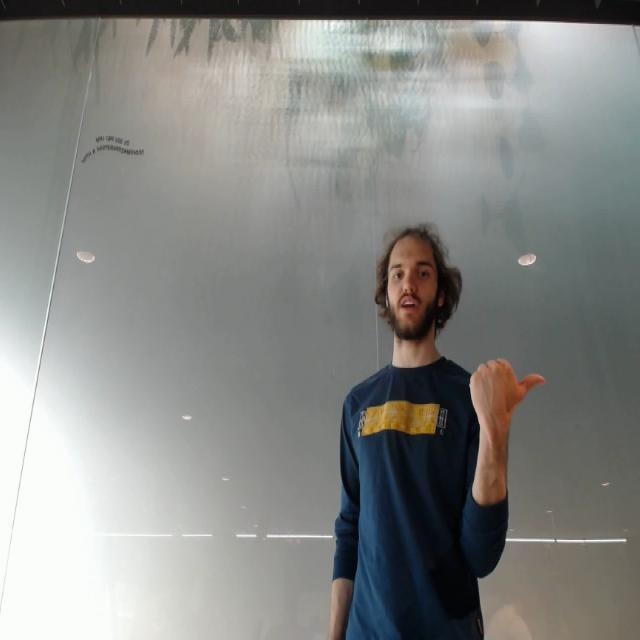right: (465, 355, 555, 433)
